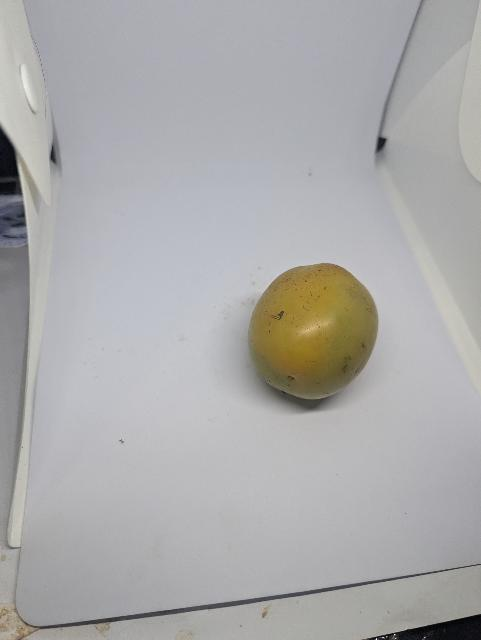breaker: (240, 259, 389, 410)
